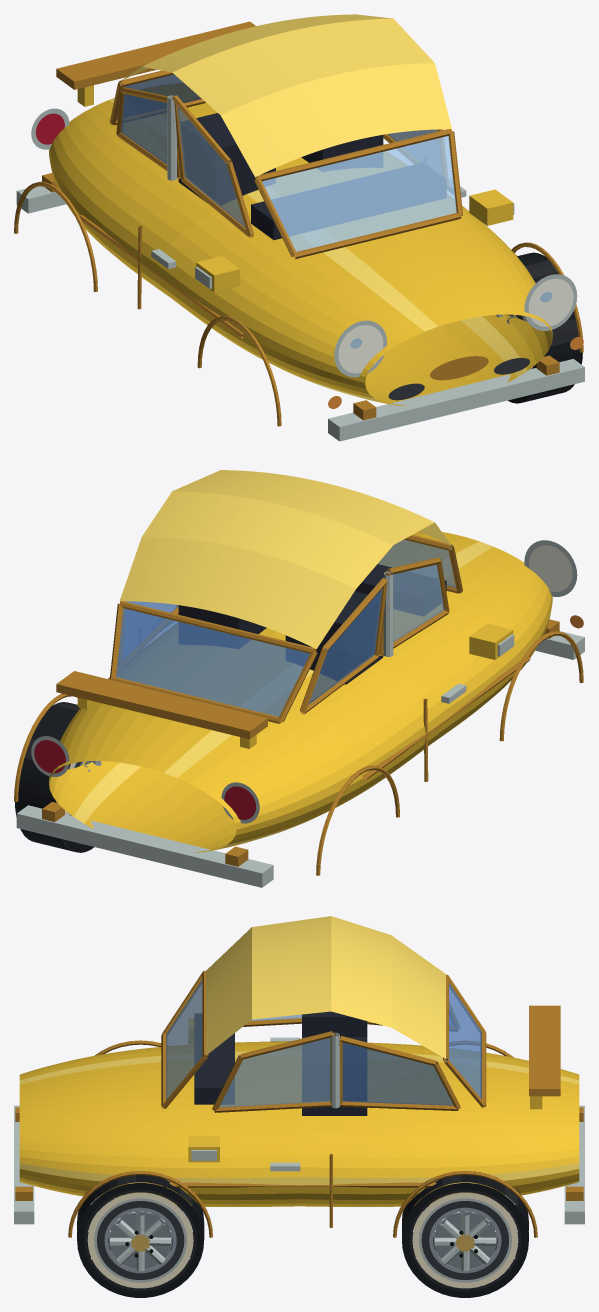
The model's file is yellow_beetle_exclusive_body.obj.
3 renders of one model, top to bottom at view 1: azimuth 30°, elevation 25°; view 2: azimuth 150°, elevation 25°; view 3: azimuth 270°, elevation 25°, orthographic. The views are drawn at different scales.
Visible parts, largest first — view 1: SCULPTED_MAIN_BODY, BUBBLE_ROOF, WINDSHIELD, DASHBOARD, CHROME_BUMPERS, SEATS, GLASS_SEALS, ROUND_HEADLAMPS, DRIVER_WINDOW, GLASS_TRIM, SPOILER, CLASSIC_ARCHES (+10 smaller); view 2: SCULPTED_MAIN_BODY, BUBBLE_ROOF, REAR_WINDOW, CHROME_BUMPERS, SEATS, SPOILER, REAR_SIDE_WINDOW, GLASS_SEALS, GLASS_TRIM, WHEEL_TREAD, DRIVER_WINDOW, CLASSIC_ARCHES (+8 smaller); view 3: SCULPTED_MAIN_BODY, BUBBLE_ROOF, WHEEL_SIDE, DRIVER_WINDOW, SEATS, REAR_SIDE_WINDOW, GLASS_TRIM, WHEEL_DISC, ALLOY_SPOKES, GLASS_SEALS, SPOILER, WINDSHIELD (+9 smaller).
Part boxes in pixels (<box>): SCULPTED_MAIN_BODY: <box>49,83,552,406</box>; BUBBLE_ROOF: <box>121,14,451,177</box>; WINDSHIELD: <box>262,136,456,255</box>; DASHBOARD: <box>251,163,445,240</box>; CHROME_BUMPERS: <box>16,186,584,441</box>; SEATS: <box>178,113,383,205</box>; GLASS_SEALS: <box>109,70,462,258</box>; ROUND_HEADLAMPS: <box>334,274,577,377</box>; DRIVER_WINDOW: <box>177,106,441,227</box>; GLASS_TRIM: <box>116,87,448,237</box>; SPOILER: <box>56,21,255,89</box>; CLASSIC_ARCHES: <box>14,181,583,426</box>; SCULPTED_MAIN_BODY: <box>49,531,552,852</box>; BUBBLE_ROOF: <box>119,470,451,649</box>; REAR_WINDOW: <box>116,608,309,720</box>; CHROME_BUMPERS: <box>16,631,584,887</box>; SEATS: <box>178,591,383,684</box>; SPOILER: <box>56,671,267,739</box>; REAR_SIDE_WINDOW: <box>123,588,382,704</box>; GLASS_SEALS: <box>109,535,462,723</box>; GLASS_TRIM: <box>118,557,449,714</box>; WHEEL_TREAD: <box>16,702,79,851</box>; DRIVER_WINDOW: <box>388,564,444,641</box>; CLASSIC_ARCHES: <box>14,631,583,875</box>; SCULPTED_MAIN_BODY: <box>19,1041,579,1206</box>; BUBBLE_ROOF: <box>206,916,445,1058</box>; WHEEL_SIDE: <box>77,1183,528,1297</box>; DRIVER_WINDOW: <box>219,1014,332,1107</box>; SEATS: <box>302,1011,367,1115</box>; REAR_SIDE_WINDOW: <box>340,1017,453,1105</box>; GLASS_TRIM: <box>212,1002,460,1112</box>; WHEEL_DISC: <box>109,1211,496,1269</box>; ALLOY_SPOKES: <box>109,1211,496,1271</box>; GLASS_SEALS: <box>161,970,486,1108</box>; SPOILER: <box>529,1005,560,1096</box>; WINDSHIELD: <box>166,979,205,1099</box>.
Bounding box in the file's own units: 1.85 × 1.74 × 3.23.
